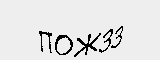Ж: (42, 29, 74, 45)
П: (72, 24, 91, 42)
Т: (106, 22, 125, 39)
Ш: (7, 28, 40, 46)
Э: (125, 21, 144, 39)
Ә: (90, 21, 108, 39)
